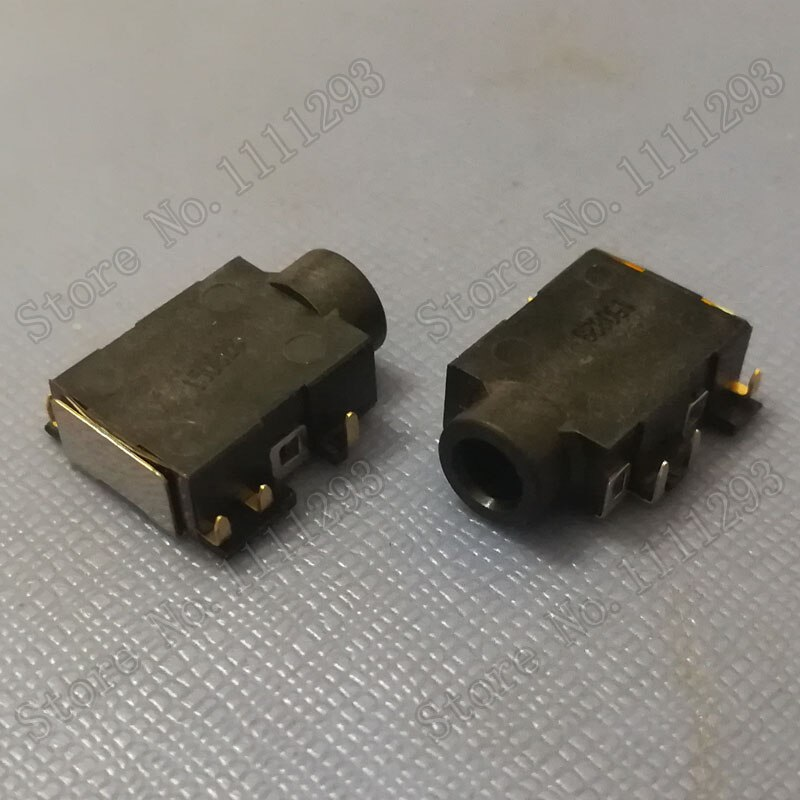aud: (432, 233, 754, 524), (72, 237, 384, 497)
